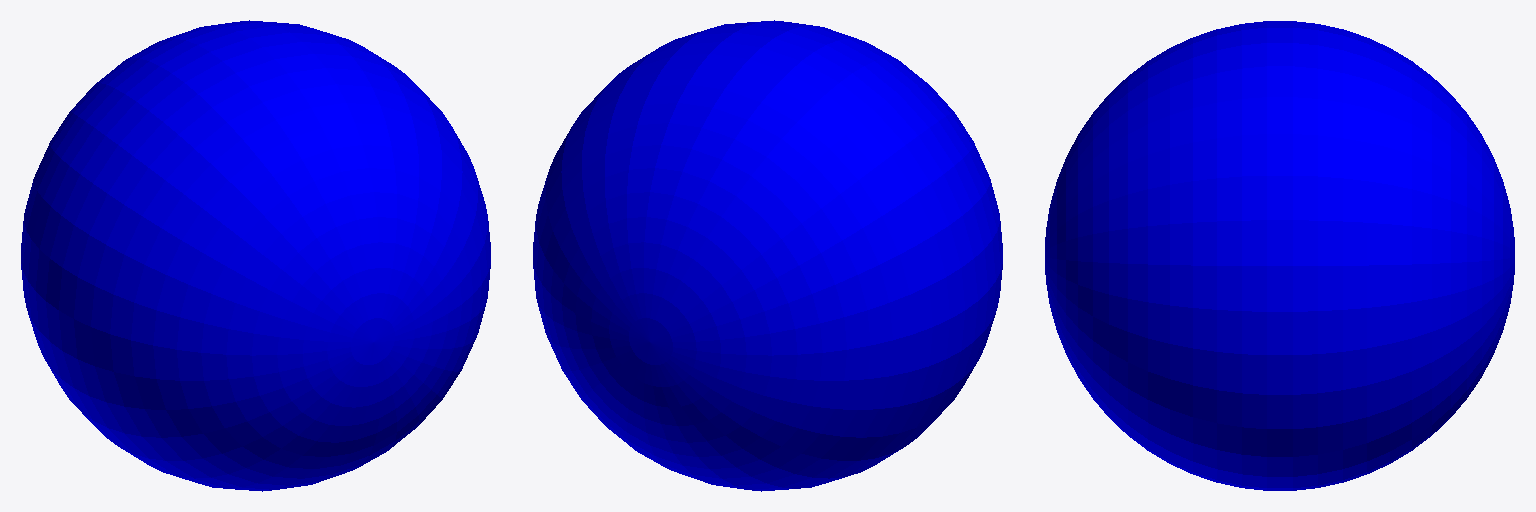
robot.urdf — ball:
<?xml version="1.0" ?>
<robot name="ball">
  <link name="baseLink">
    <contact>
      <lateral_friction value="1.0"/>
      <rolling_friction value="0.0"/>
      <contact_cfm value="0.0"/>
      <contact_erp value="1.0"/>
    </contact>
    <inertial>
      <origin rpy="0 0 0" xyz="0 0 0"/>
       <mass value="1.0"/>
       <inertia ixx="1" ixy="0" ixz="0" iyy="1" iyz="0" izz="1"/>
    </inertial>
    <visual>
      <origin rpy="0 0 0" xyz="0 0 0"/>
      <geometry>
				<mesh filename="ball.obj" scale="0.5 0.5 0.5"/>
      </geometry>
       <material name="blue">
        <color rgba="0 0 1 1"/>
      </material>
    </visual>
    <collision>
      <origin rpy="0 0 0" xyz="0 0 0"/>
      <geometry>
	 	<mesh filename="ball.obj" scale="0.5 0.5 0.5"/>
      </geometry>
    </collision>
  </link>
</robot>

--- Render facts (derived) ---
Views: 3 orthographic renders of the robot side by side, from view 1: azimuth 30°, elevation 25°; view 2: azimuth 150°, elevation 25°; view 3: azimuth 270°, elevation 25°.
Robot: ball — 1 links, 0 joints (none); root link baseLink; default pose: every joint at zero.
Visible links, largest first — view 1: baseLink; view 2: baseLink; view 3: baseLink.
Boxes of the visible links, x1,y1,x2,y2 form: baseLink: (21,20,490,491); baseLink: (533,20,1002,491); baseLink: (1045,21,1514,490).
Size in the robot's own frame: 0.9985 by 1 by 0.9985 metres.
Meshes: 1 distinct files referenced, 1 mesh visuals loaded (1 OBJ).